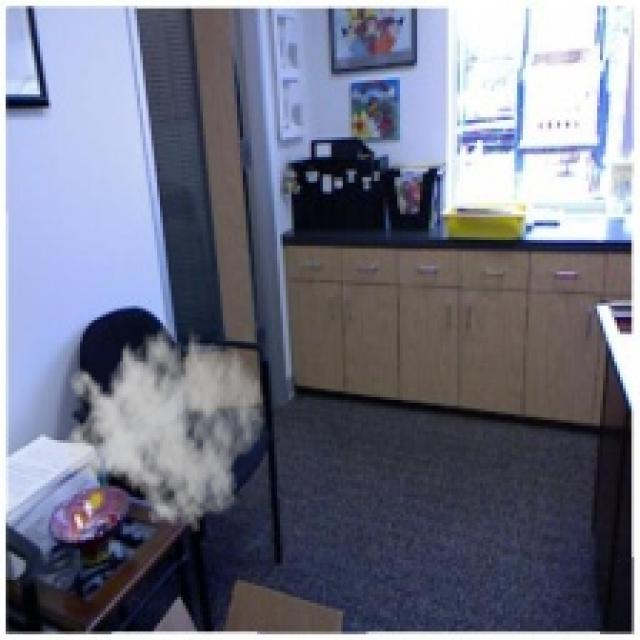smoke: (60, 306, 266, 534)
